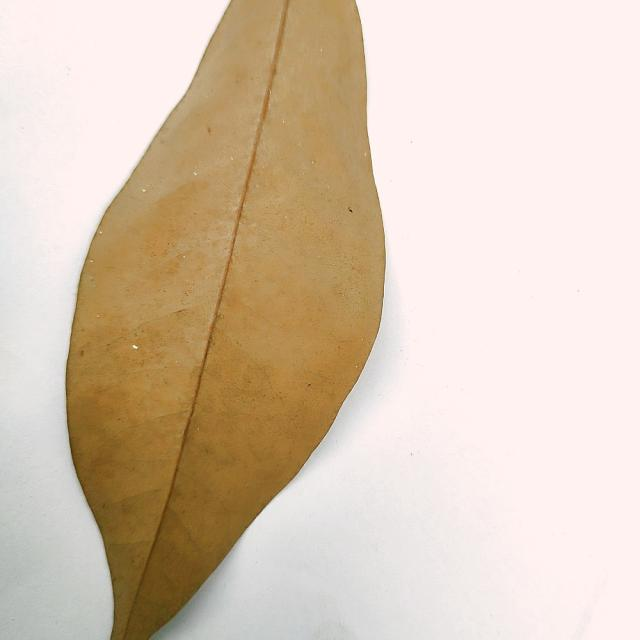Dry_Leaf-Lychee: (63, 0, 387, 639)
